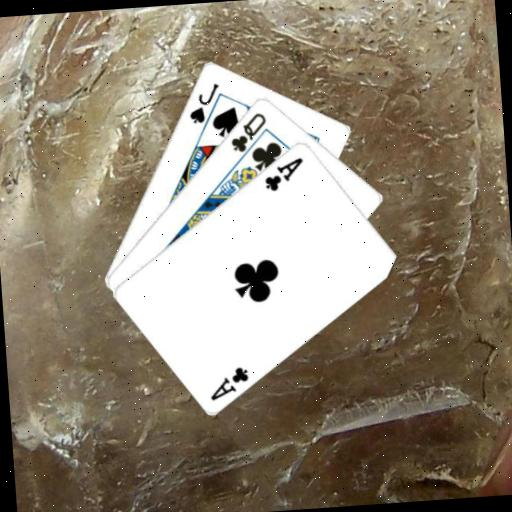AC: (260, 154, 307, 194), (205, 362, 251, 402)
JS: (184, 80, 222, 126)
QC: (226, 109, 270, 155)
